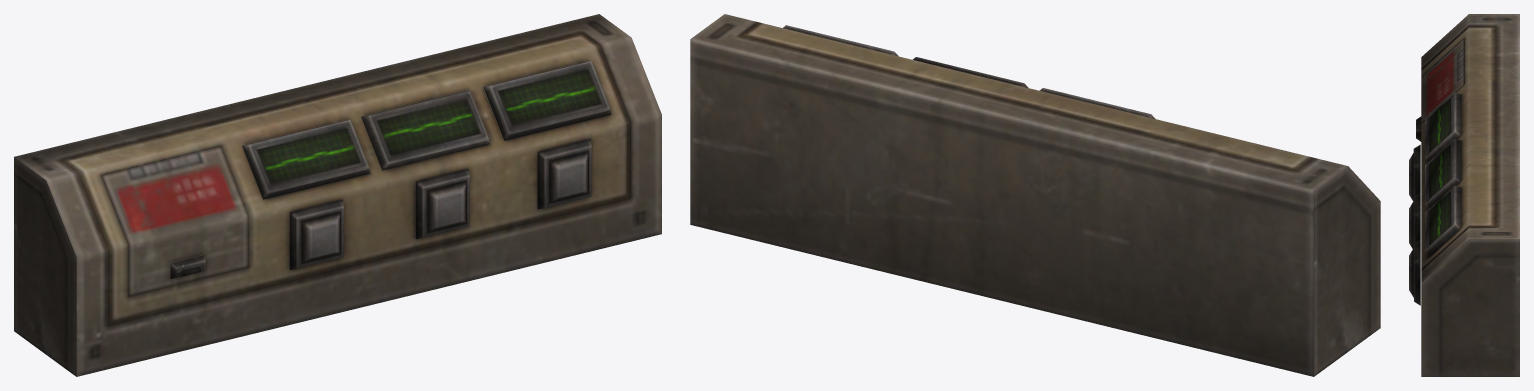
The model's file is computer_parts_meters.dae.
3 renders of one model, left to right at view 1: azimuth 30°, elevation 25°; view 2: azimuth 150°, elevation 25°; view 3: azimuth 270°, elevation 25°, orthographic. The views are drawn at different scales.
Visible parts, largest first — view 1: computer_parts_meters; view 2: computer_parts_meters; view 3: computer_parts_meters.
Boxes of the visible parts, x1,y1,x2,y2 form: computer_parts_meters: [14, 14, 661, 376]; computer_parts_meters: [690, 14, 1380, 376]; computer_parts_meters: [1409, 14, 1519, 376].
Bounding box in the file's own units: 1.03 × 0.2922 × 0.2132.
